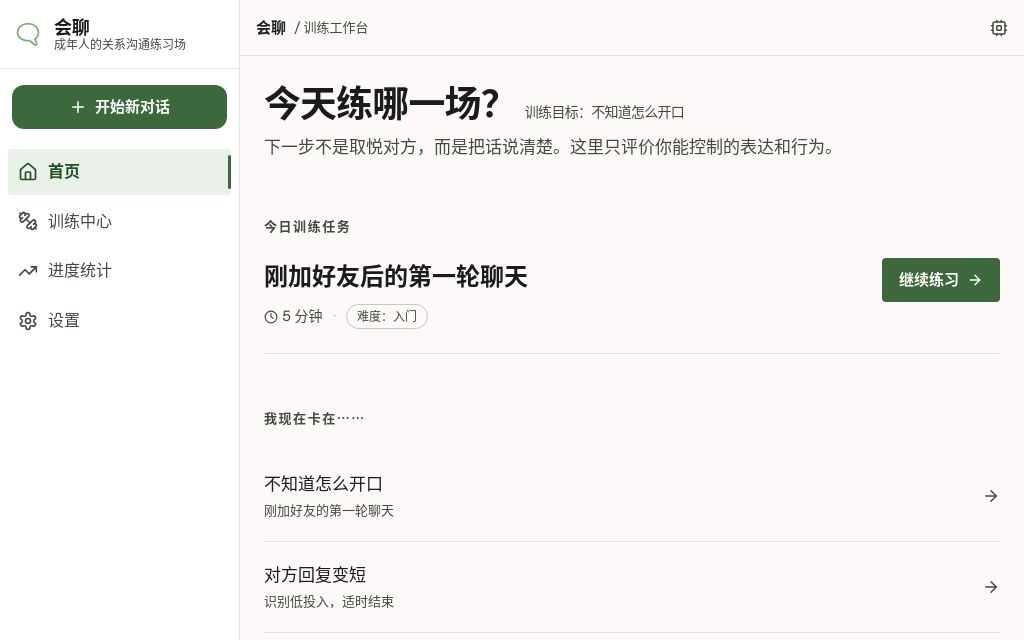
Test: 路由与首次设置门禁 › 四个一级导航入口均可到达
Click the link "训练中心" at (65, 221), box [18, 211, 112, 231]
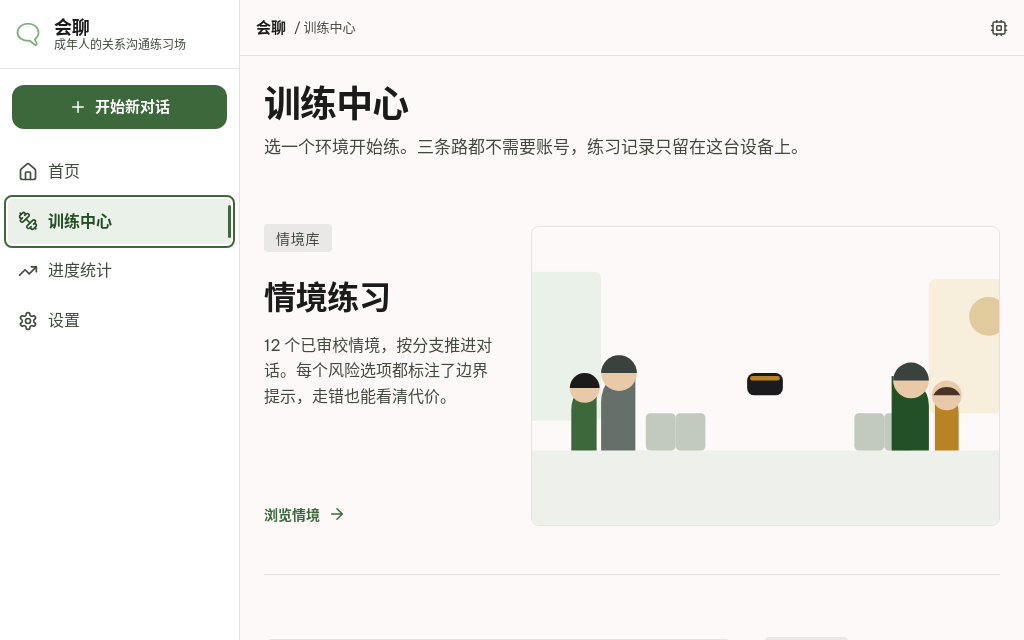
expect the heading "训练中心" is shown: met, box [264, 74, 408, 128]
Click the link "进度统计" at (65, 271), box [18, 260, 112, 281]
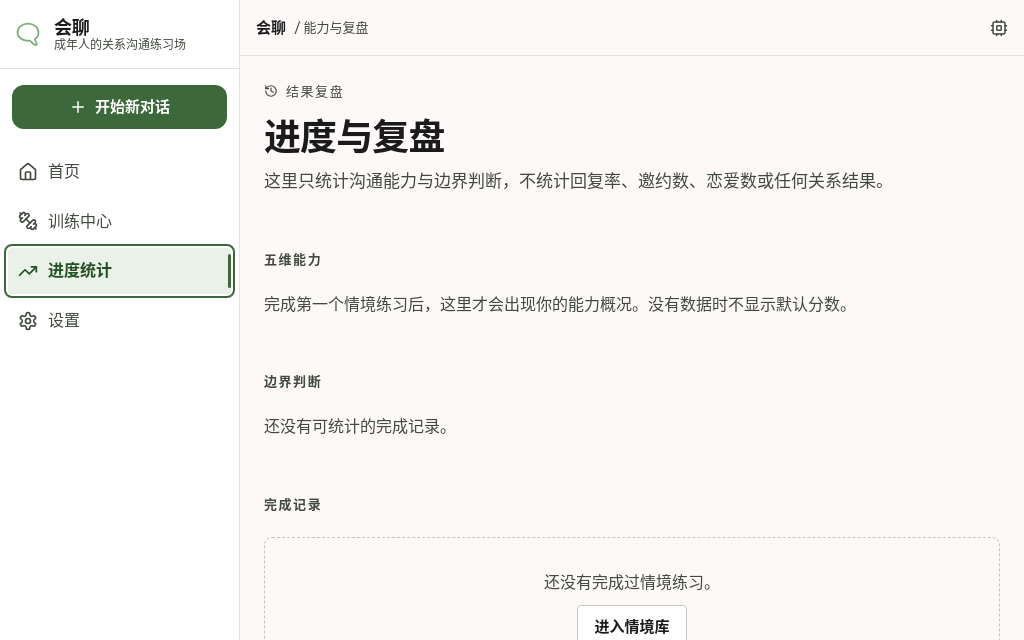
expect the heading "进度与复盘" is shown: met, box [264, 107, 445, 161]
Click the link "设置" at (49, 320), box [18, 310, 80, 331]
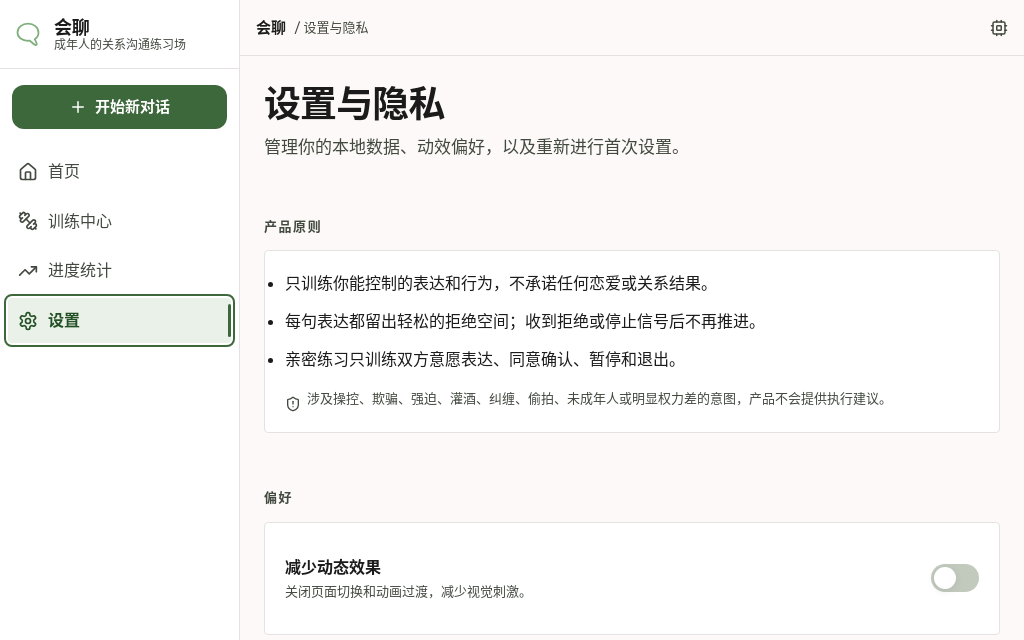
expect the heading "设置与隐私" is shown: met, box [264, 74, 445, 128]
Click the link "首页" at (49, 171), box [18, 161, 80, 182]
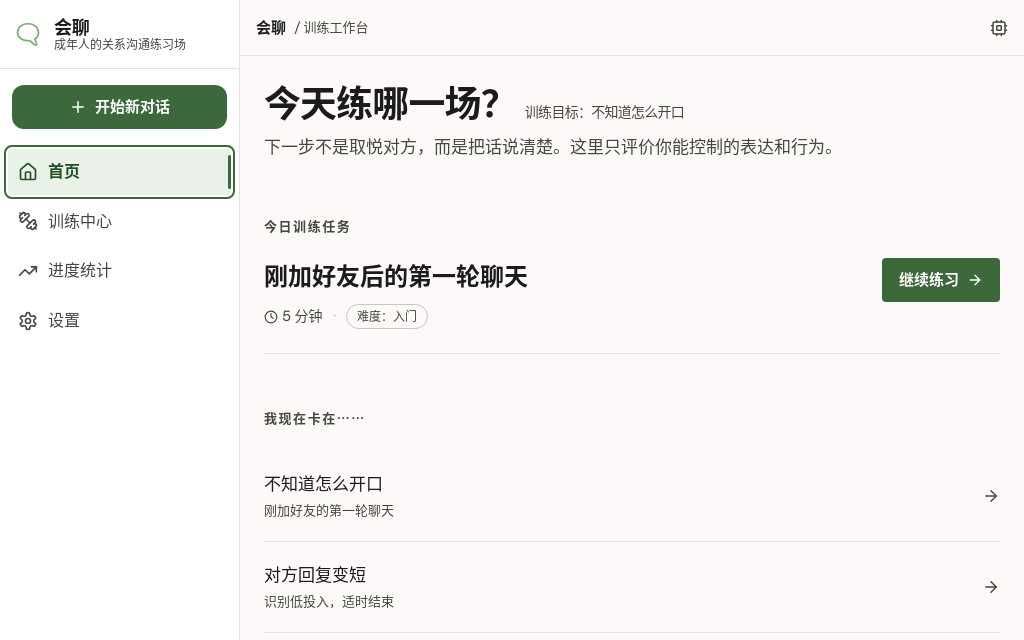
expect the heading "今天练哪一场？训练目标：不知道怎么开口" is shown: met, box [264, 74, 684, 128]
